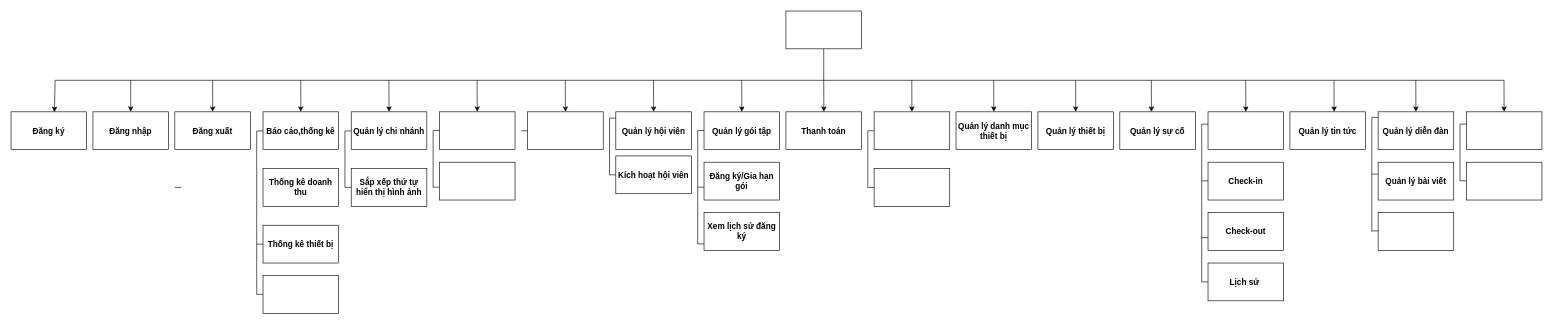
The diagram is 1553 pixels wide and 324 high, and some of its shapes have lost their labels. Here are the shapes that lost their labels. From the top down, the box of each, then its label:
(785, 10, 862, 49): Website quản lý phòng Gym
(439, 111, 515, 150): Quản lý trang chủ
(527, 111, 603, 150): Quản lý nhân viên
(873, 111, 950, 150): Quản lý Voucher
(1207, 111, 1284, 150): Nhận diện khuôn mặt
(1466, 111, 1542, 150): Quản lý hóa đơn
(439, 162, 515, 200): Sắp xếp thứ tự hiển thị
(873, 168, 950, 206): Xem lịch sử sử dụng
(1466, 162, 1542, 200): Điều chỉnh hóa đơn
(1377, 212, 1454, 250): Quản lý danh mục
(262, 275, 339, 313): Thống kê hội viên
